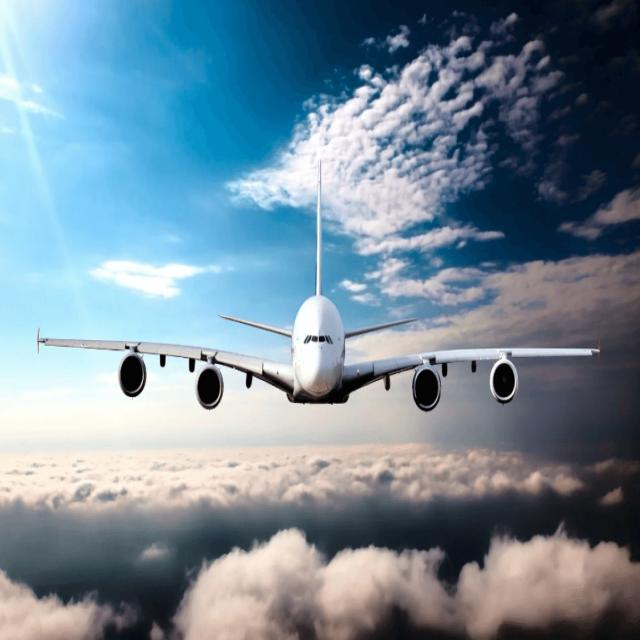plain: (41, 173, 608, 423)
